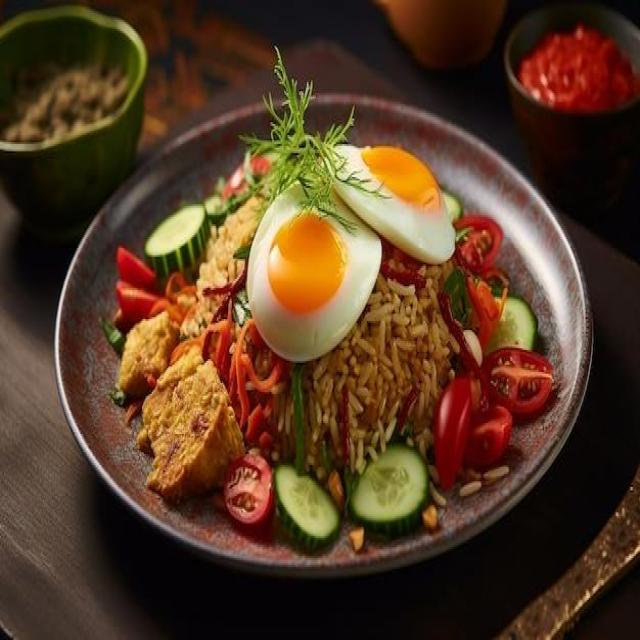Nasi Goreng: (172, 145, 500, 456)
